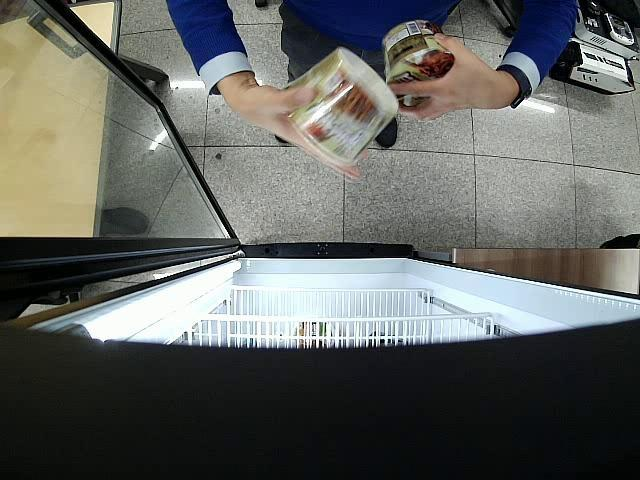03_chapagetti_L: (280, 47, 398, 167), (382, 20, 454, 107)
